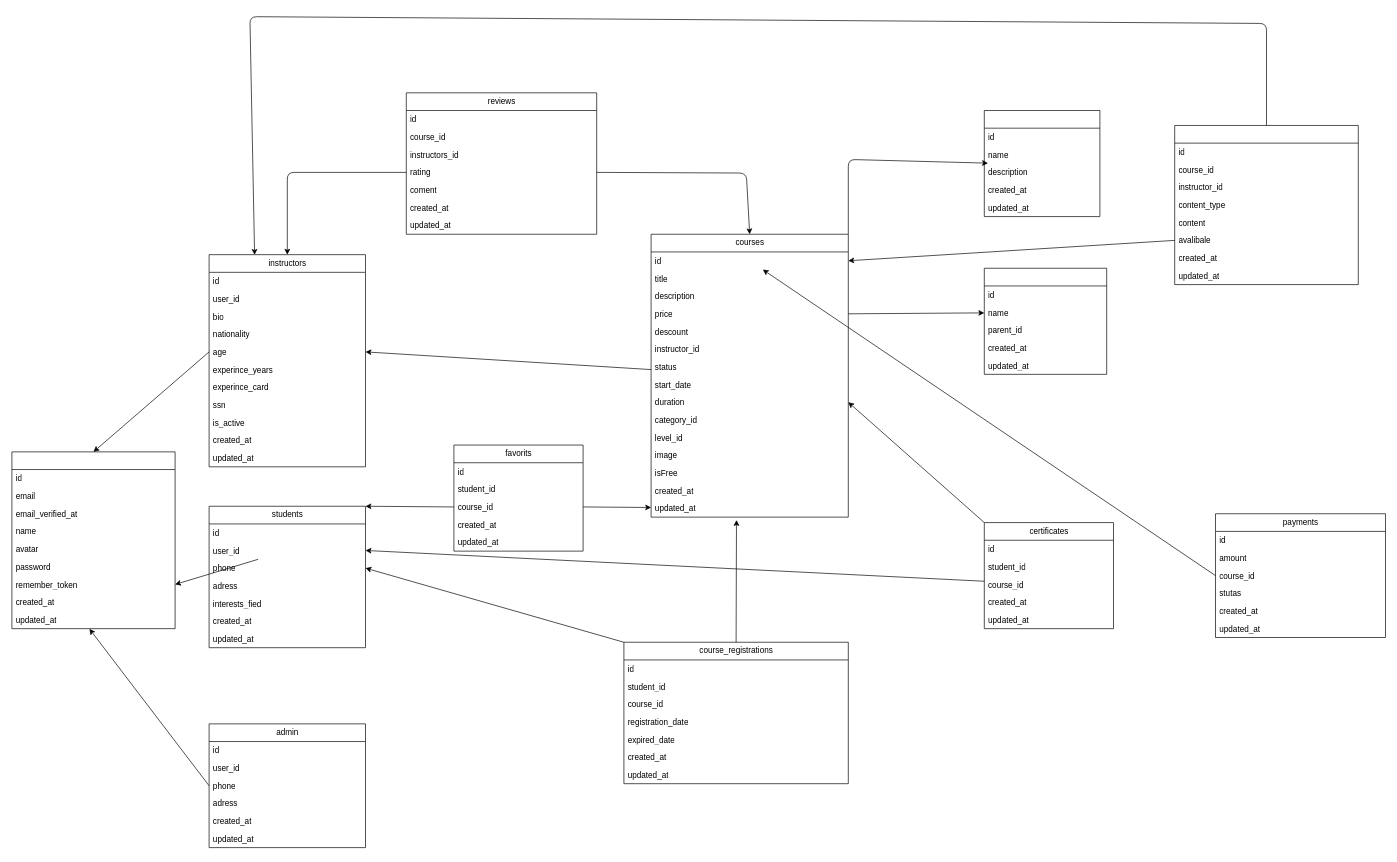
The diagram is 1397 pixels wide and 862 high, and some of its shapes have lost their labels. The box of each missing label's shape, as (x1, y1, x2, y2) in pixels:
categories: (984, 268, 1107, 374)
course_level: (984, 110, 1100, 217)
lessons: (1174, 125, 1358, 285)
users: (11, 451, 175, 629)
